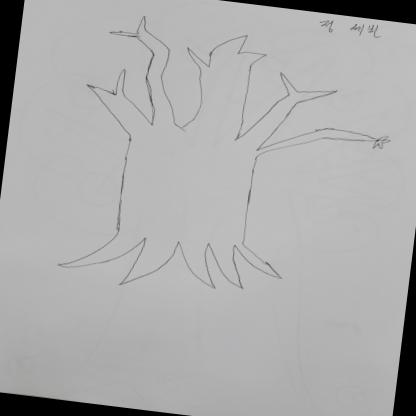branch_sharp: (75, 6, 402, 172)
root_only: (57, 212, 292, 306)
trunk_straight: (110, 140, 264, 236)
